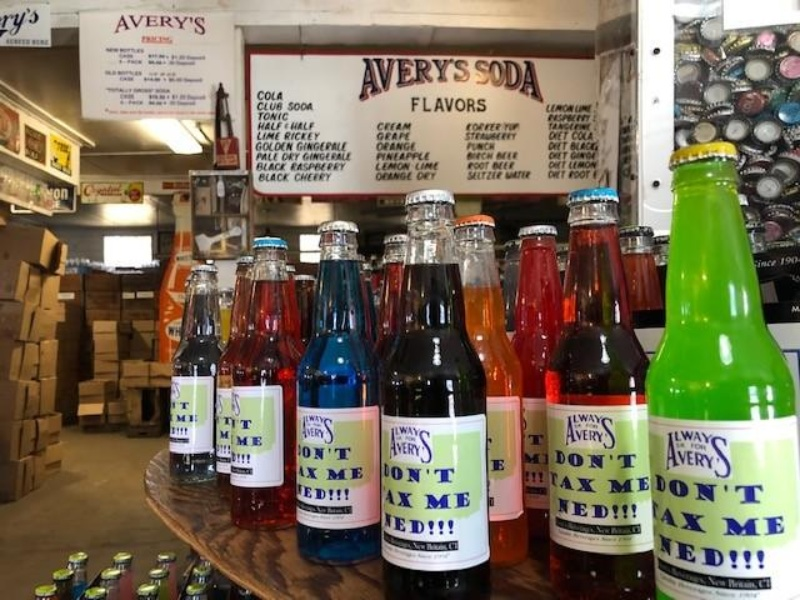Glass bottle: (621, 113, 792, 600), (525, 167, 676, 593), (365, 174, 510, 587), (199, 181, 312, 527), (142, 256, 244, 482), (489, 197, 580, 386)
